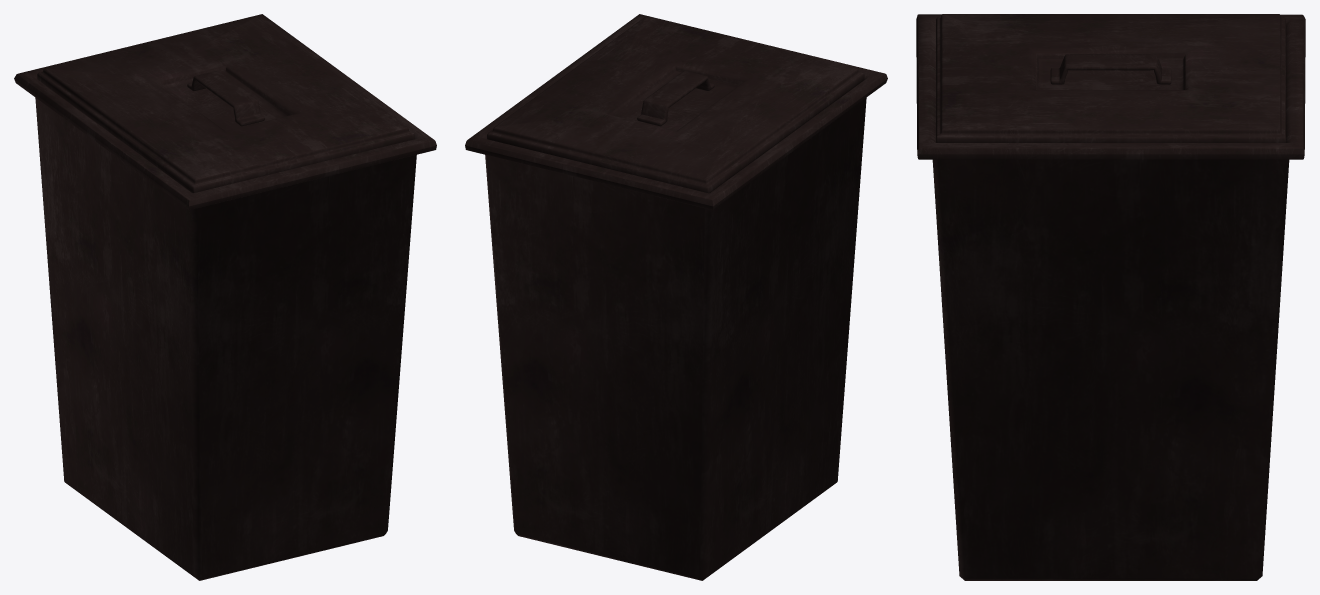
The model's file is tacho_de_basura.fbx.
3 renders of one model, left to right at view 1: azimuth 30°, elevation 25°; view 2: azimuth 150°, elevation 25°; view 3: azimuth 270°, elevation 25°, orthographic. The views are drawn at different scales.
Parts seen in each view (by area): view 1: Plane; view 2: Plane; view 3: Plane.
Boxes of the visible parts, bbox=[...] form: Plane: bbox=[14, 14, 436, 580]; Plane: bbox=[465, 14, 887, 580]; Plane: bbox=[916, 14, 1305, 580].
Size of the model in its own units: 95.23 by 155 by 116.
1 material, 1 textured.
